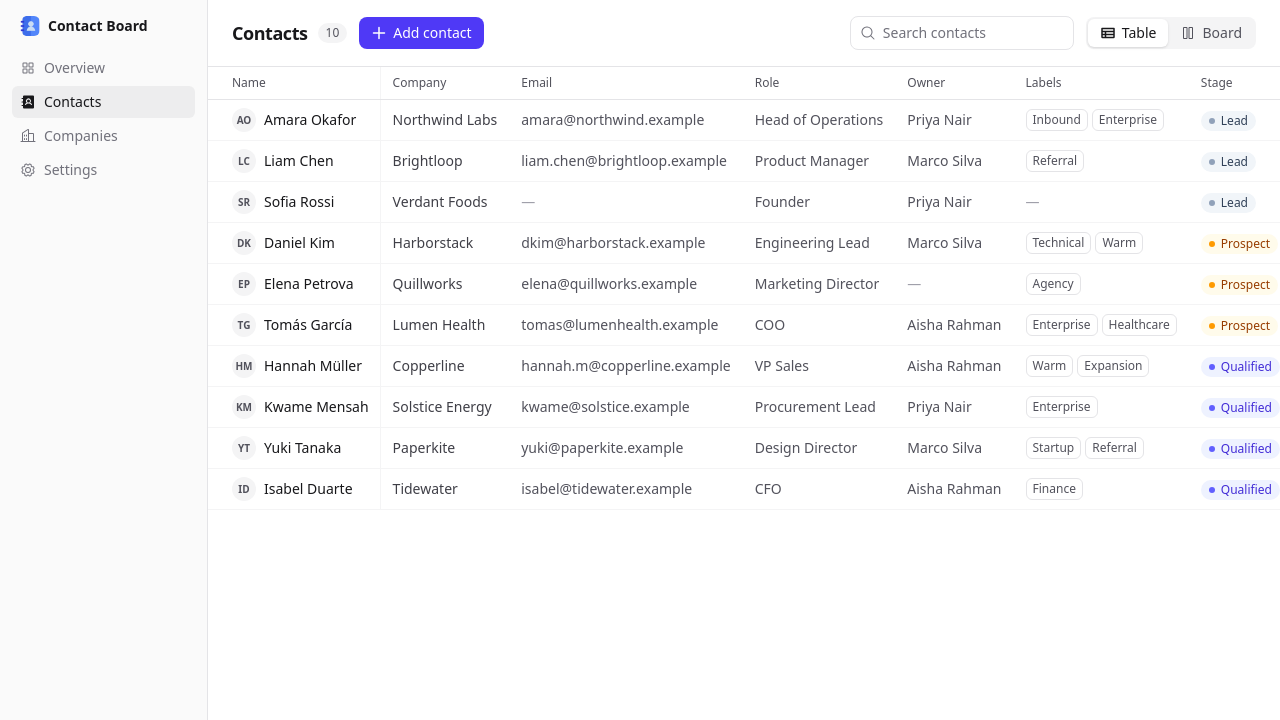
Scenario: contacts app › shows the same contacts in table and board
Click the button "Board": x=1211, y=33 [1168,19,1254,47]
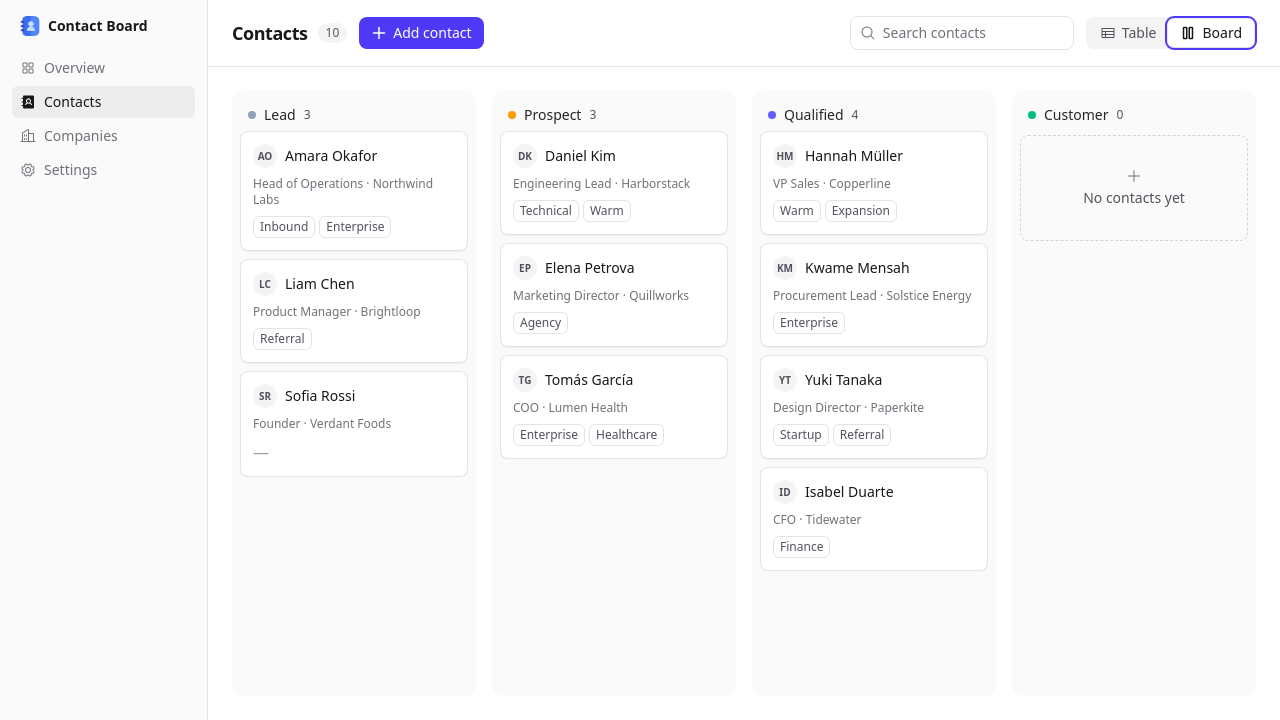
Check: the text "No contacts yet" is shown, box [1083,188,1185,208]
